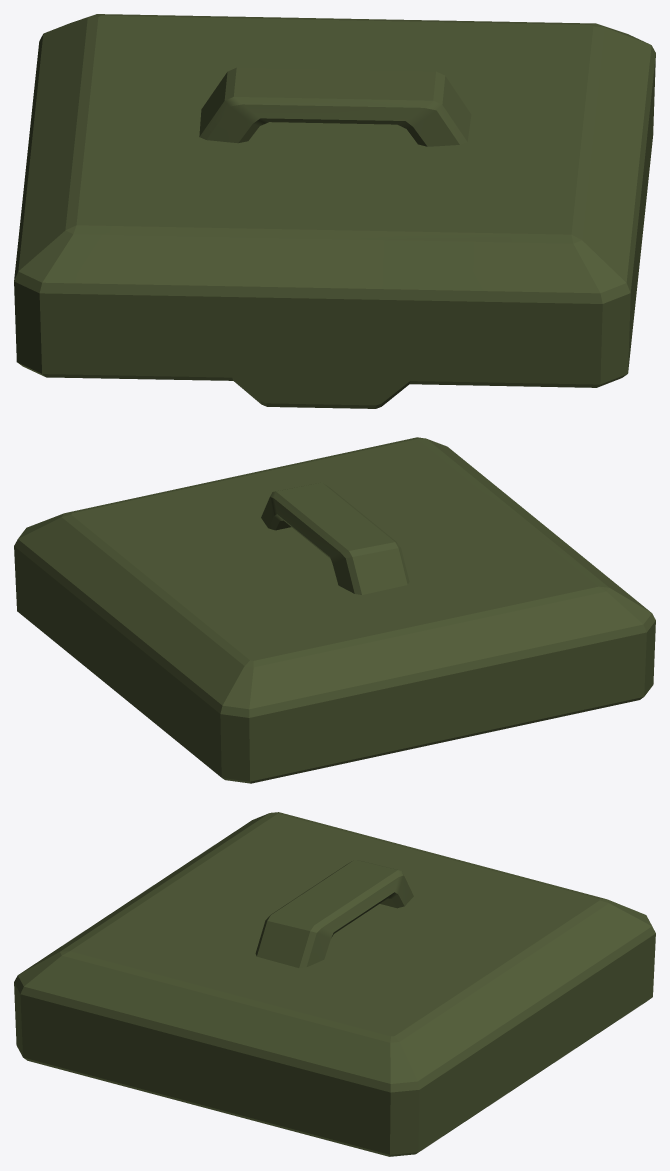
Rendered from caixa_1_tampa.glb.
3 views of the same model, one above another, from view 1: azimuth 30°, elevation 25°; view 2: azimuth 150°, elevation 25°; view 3: azimuth 270°, elevation 25° (orthographic). The views are drawn at different scales.
Parts seen in each view (by area): view 1: SM_WeaponCrate_01_L; view 2: SM_WeaponCrate_01_L; view 3: SM_WeaponCrate_01_L.
Boxes of the visible parts, x1=… form: SM_WeaponCrate_01_L: x1=14, y1=14, x2=655, y2=408; SM_WeaponCrate_01_L: x1=14, y1=437, x2=655, y2=783; SM_WeaponCrate_01_L: x1=14, y1=812, x2=655, y2=1156.
Size of the model in its own units: 0.5535 by 0.1468 by 0.5535.
